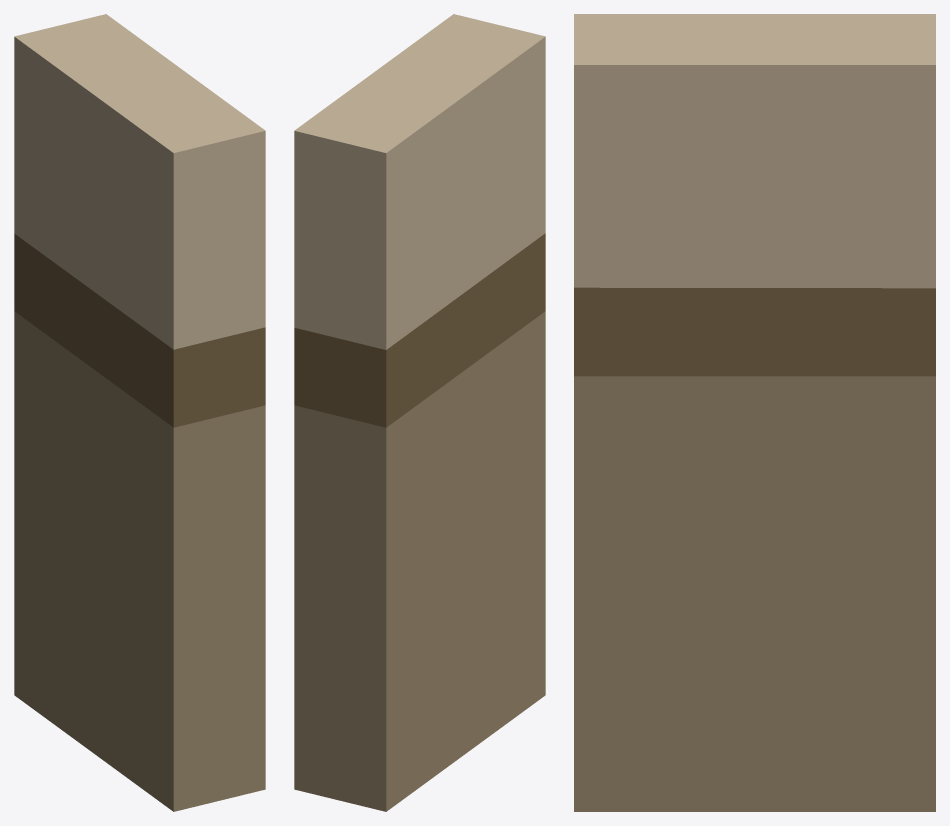
File: WallLightSandStoneRectangleInlayDecorationSmall1.fbx
3 renders of one model, left to right at view 1: azimuth 30°, elevation 25°; view 2: azimuth 150°, elevation 25°; view 3: azimuth 270°, elevation 25°, orthographic. The views are drawn at different scales.
Visible parts, largest first — view 1: WallLightSandStoneRectangleInlayDecorationSmall1; view 2: WallLightSandStoneRectangleInlayDecorationSmall1; view 3: WallLightSandStoneRectangleInlayDecorationSmall1.
Boxes of the visible parts, bbox=[...] form: WallLightSandStoneRectangleInlayDecorationSmall1: bbox=[14, 14, 265, 811]; WallLightSandStoneRectangleInlayDecorationSmall1: bbox=[294, 14, 545, 811]; WallLightSandStoneRectangleInlayDecorationSmall1: bbox=[574, 14, 935, 811].
Size of the model in its own units: 100 by 684 by 300.
